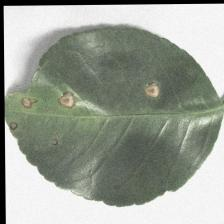canker: (10, 72, 163, 149)
